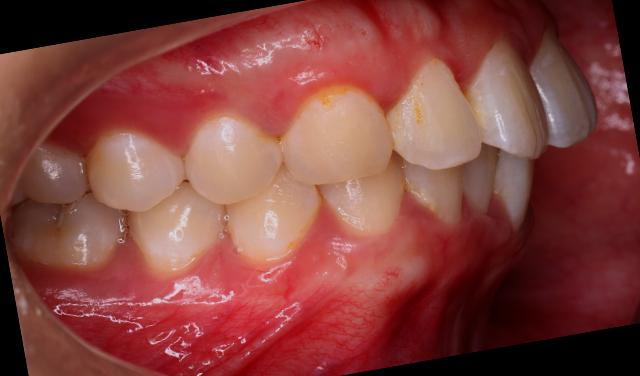canine class II 1/4: (206, 70, 422, 280)
molar class I: (0, 133, 137, 304)
